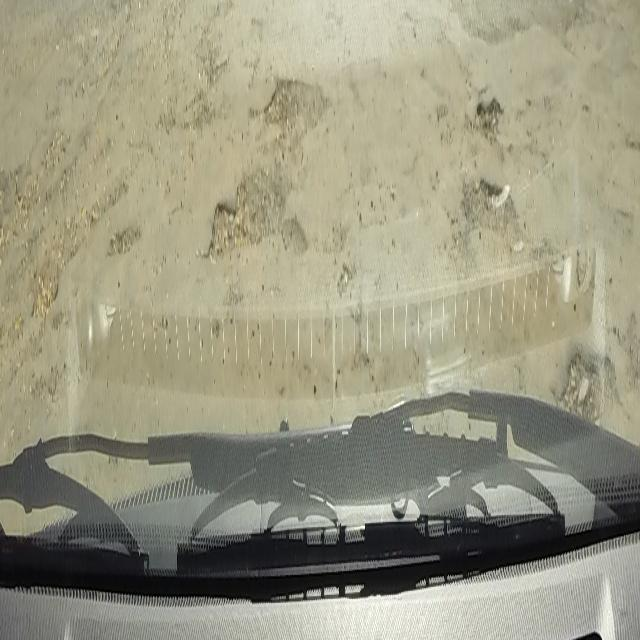pothole: (208, 78, 334, 267), (458, 92, 518, 242), (553, 331, 611, 418), (104, 212, 142, 258)
